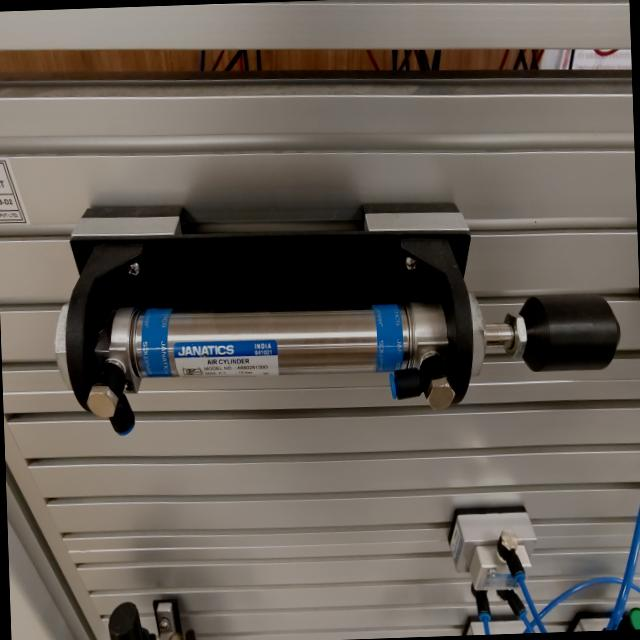double acting pneumatic cylinder: (49, 176, 625, 444)
